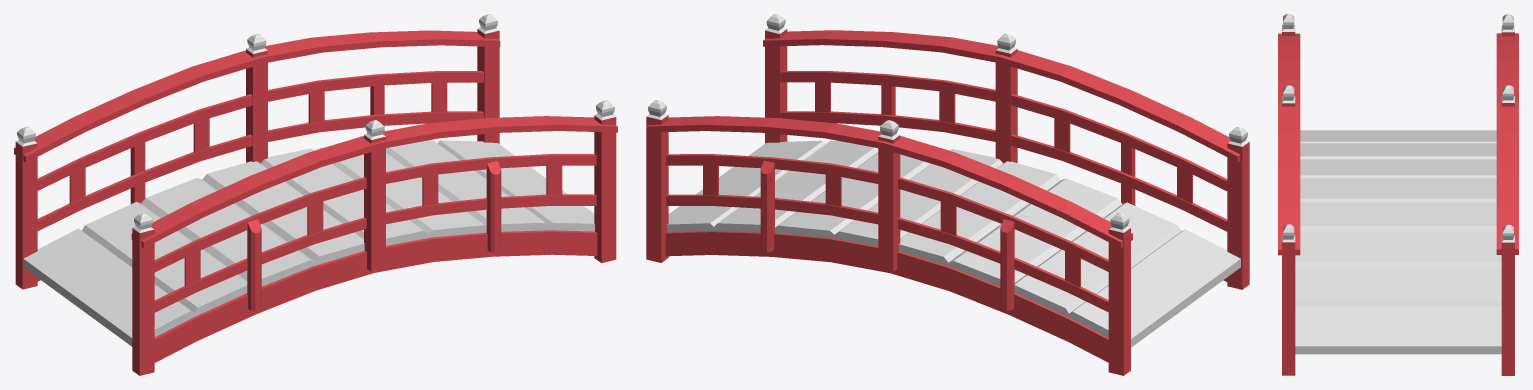
Rendered from bridge.fbx.
3 views of the same model, side by side, from view 1: azimuth 30°, elevation 25°; view 2: azimuth 150°, elevation 25°; view 3: azimuth 270°, elevation 25° (orthographic). The views are drawn at different scales.
Parts seen in each view (by area): view 1: Cube.008; view 2: Cube.008; view 3: Cube.008.
Boxes of the visible parts, <box> form: Cube.008: <box>14,14,617,375</box>; Cube.008: <box>646,14,1249,375</box>; Cube.008: <box>1278,14,1518,375</box>.
Bounding box in the file's own units: 314 × 122 × 147.
